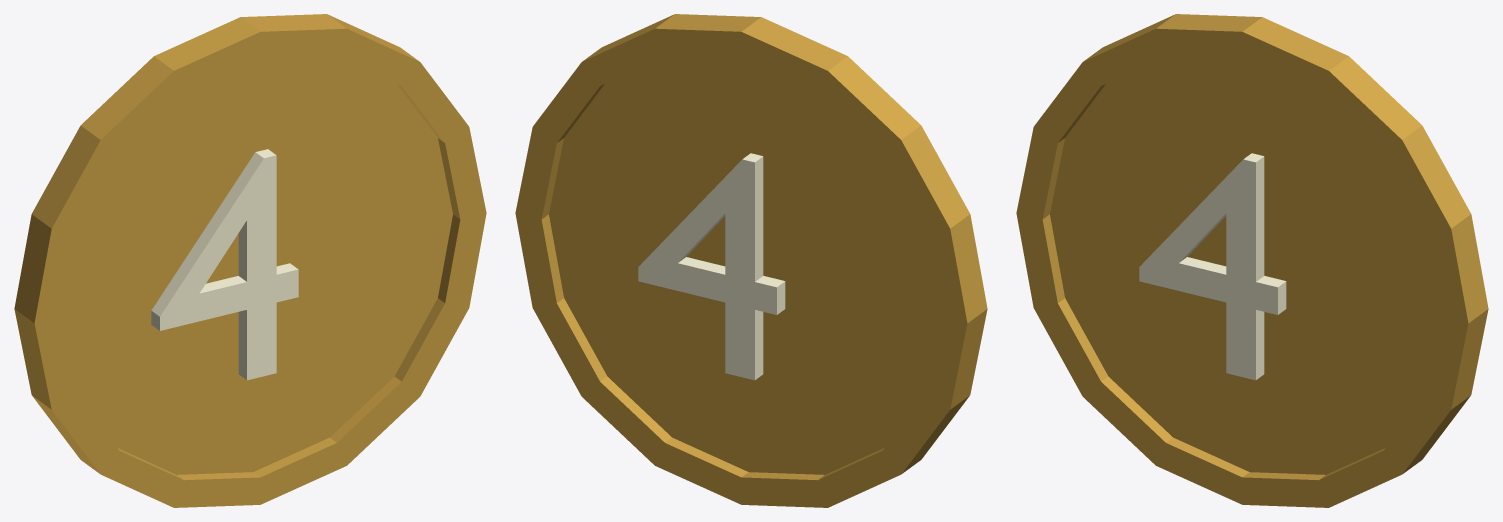
Rendered from Coin4.dae.
3 views of the same model, side by side, from view 1: azimuth 30°, elevation 25°; view 2: azimuth 150°, elevation 25°; view 3: azimuth 330°, elevation 25° (orthographic).
Visible parts, largest first — view 1: Circle_005, Text_006; view 2: Circle_005, Text_018; view 3: Circle_005, Text_006.
Boxes of the visible parts, bbox=[...] form: Circle_005: bbox=[14, 14, 486, 507]; Text_006: bbox=[151, 149, 298, 380]; Circle_005: bbox=[515, 14, 987, 507]; Text_018: bbox=[638, 153, 785, 380]; Circle_005: bbox=[1016, 14, 1488, 507]; Text_006: bbox=[1139, 153, 1286, 380].
Bounding box in the file's own units: 0.9666 × 0.0839 × 0.9666.
